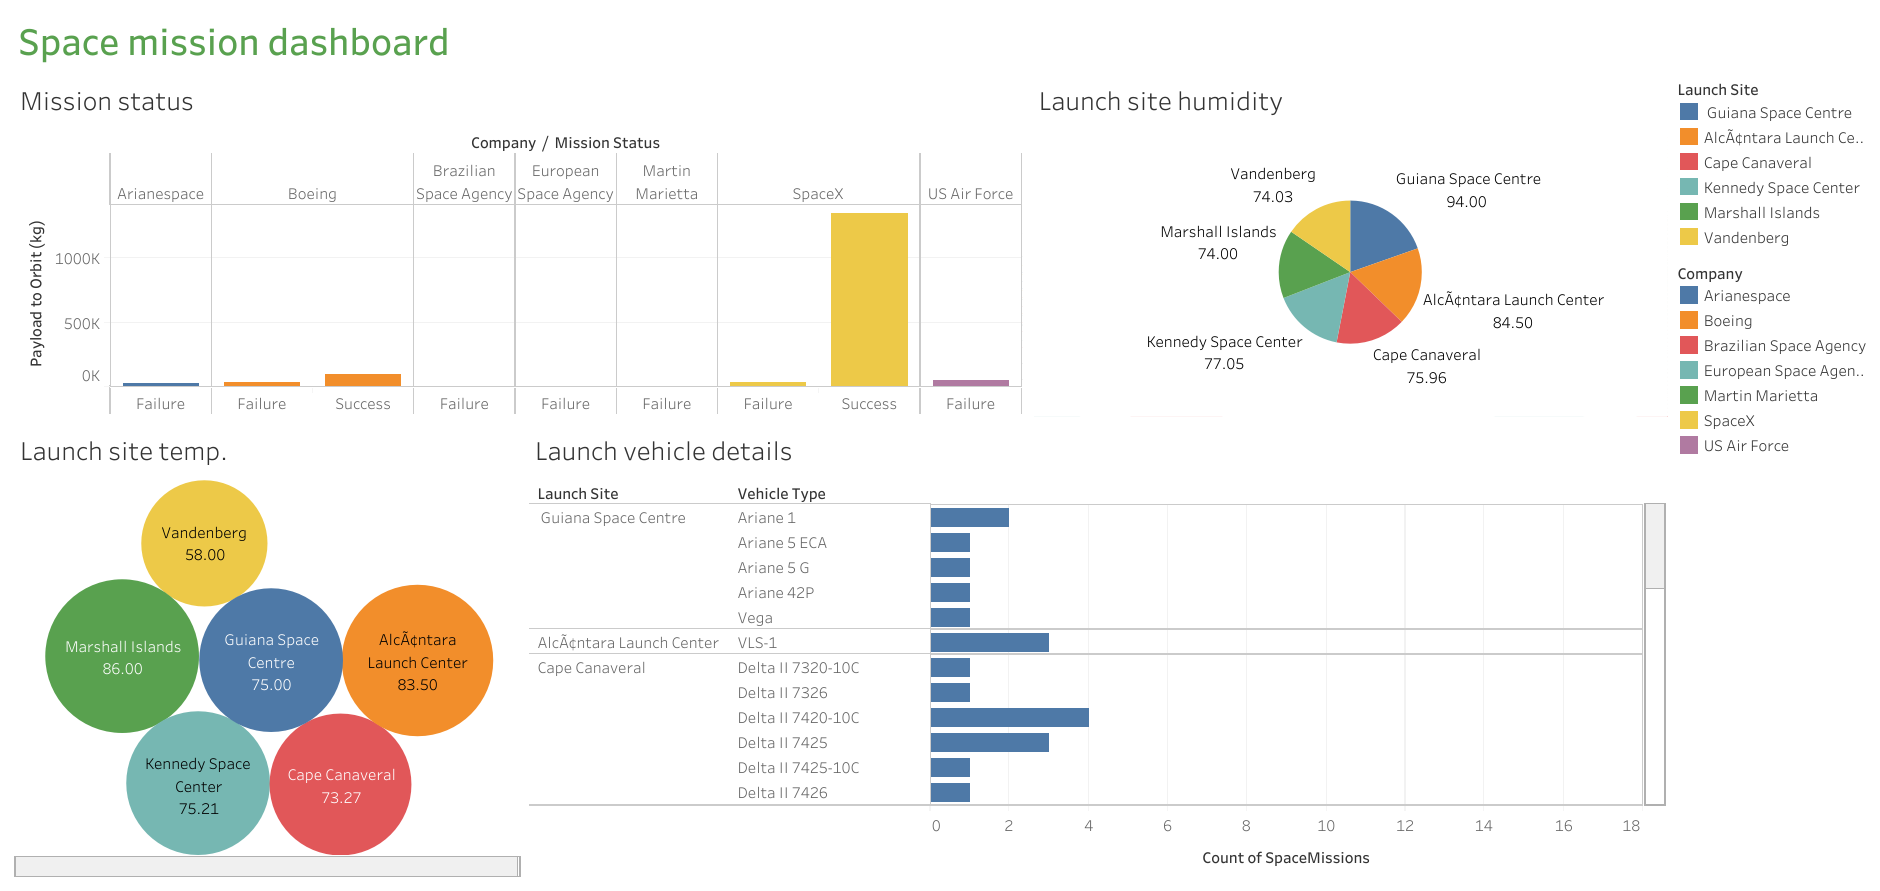

What the dashboard file says about the page in this screenshot:
{"tool":"tableau","page":{"name":"Dashboard 1","canvas":[1000,1000],"units":"permille","ordinal":0},"visuals":[{"type":"title","box":[4.9,8.3,990.1,61.5]},{"type":"worksheet","title":"Mission status","mark":"Automatic","rows":["Payload to Orbit (kg)"],"cols":["Company","Mission Status"],"box":[4.9,69.8,546.3,397.4]},{"type":"worksheet","title":"Launch site humidity","mark":"Pie","box":[551.2,69.8,345.1,397.4]},{"type":"legend","title":"Launch site temp.","param":"[federated.1t6y5x40pxajgh1202chl0c0jzuo].[none:Launch Site:nk]","box":[896.3,69.8,98.8,162.5]},{"type":"legend","title":"Mission status","param":"[federated.1t6y5x40pxajgh1202chl0c0jzuo].[none:Company:nk]","box":[896.3,232.3,98.8,184.4]},{"type":"worksheet","title":"Launch site temp.","mark":"Circle","box":[4.9,467.2,276.5,524.5]},{"type":"worksheet","title":"Launch vehicle details","mark":"Automatic","rows":["Launch Site","Vehicle Type"],"cols":["SpaceMissions_03FC1A58AA1A4913825CA0C8567E7B33"],"box":[281.5,467.2,614.8,524.5]}]}

Visuals, with their boxes on the dashboard's canvas, which has no fixed pixel size, in thousandths of its width and height (x1, y1, x2, y2). These are canvas units, not pixel positions in the 1880x891 screenshot, which may show the page scaled, cropped or inside an application window:
title: bbox=[5, 8, 995, 70]
"Mission status" worksheet: bbox=[5, 70, 551, 467]
"Launch site humidity" worksheet (Pie marks): bbox=[551, 70, 896, 467]
"Launch site temp." legend: bbox=[896, 70, 995, 232]
"Mission status" legend: bbox=[896, 232, 995, 417]
"Launch site temp." worksheet (Circle marks): bbox=[5, 467, 281, 992]
"Launch vehicle details" worksheet: bbox=[282, 467, 896, 992]
